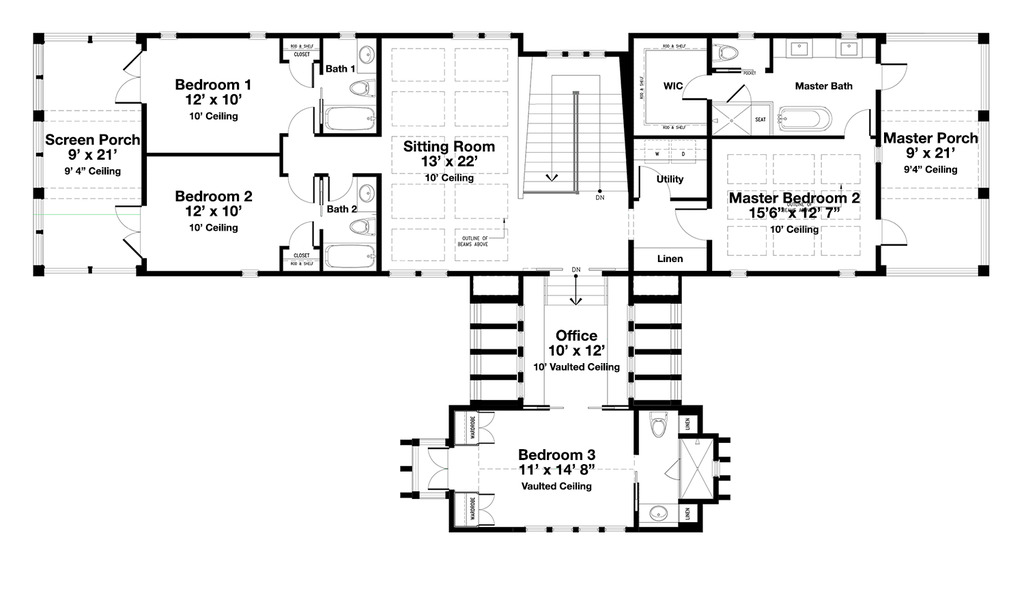door: (110, 51, 144, 108), (112, 200, 145, 256), (671, 205, 710, 240), (635, 164, 672, 199), (425, 443, 451, 490), (840, 107, 874, 138), (286, 105, 317, 138), (879, 58, 908, 91), (288, 173, 318, 204), (878, 217, 908, 248), (679, 71, 708, 102), (286, 219, 316, 248), (478, 489, 499, 528), (327, 173, 353, 204), (286, 61, 315, 88), (474, 410, 496, 445), (724, 85, 750, 105)
large_sink: (346, 214, 383, 239), (646, 410, 671, 439), (348, 75, 374, 99), (711, 41, 737, 65)
small_sink: (781, 37, 816, 62), (354, 40, 378, 75), (637, 503, 678, 523), (354, 177, 376, 213), (831, 37, 865, 60)
stairs: (516, 58, 629, 204), (543, 267, 610, 308)
tub: (773, 102, 835, 132), (320, 102, 376, 134), (321, 241, 377, 273)
windows: (446, 29, 516, 43), (387, 269, 451, 281)
